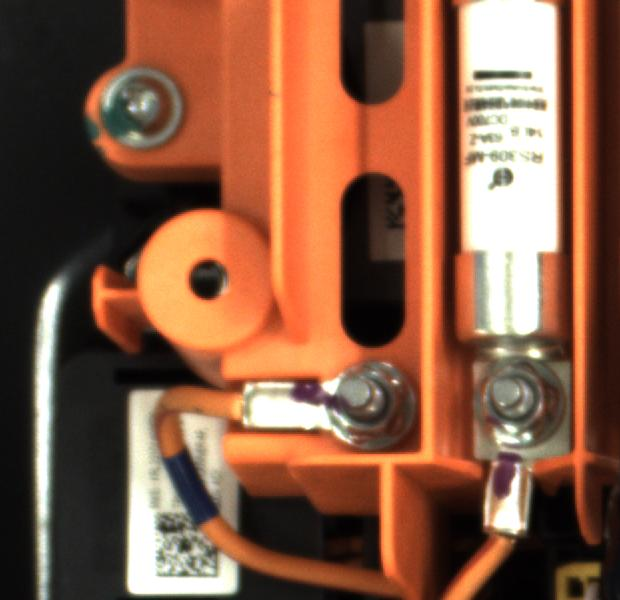screw_m: (85, 56, 193, 156)
screw_s: (316, 354, 425, 460), (469, 356, 570, 452)
